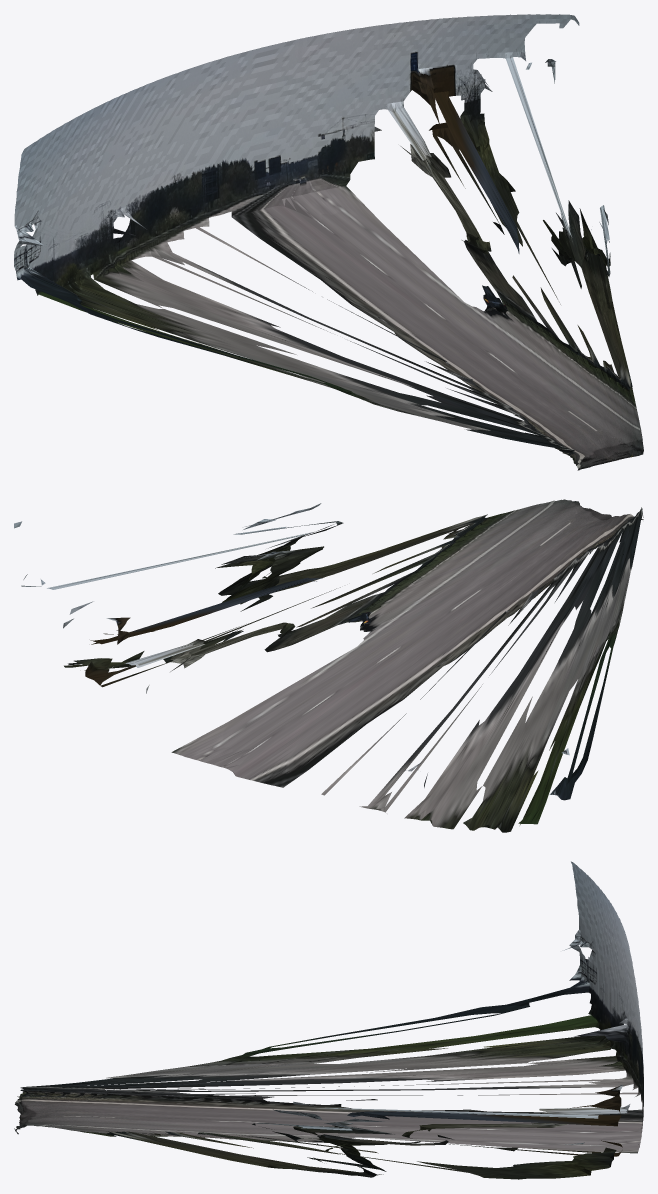
3 renders of one model, top to bottom at view 1: azimuth 30°, elevation 25°; view 2: azimuth 150°, elevation 25°; view 3: azimuth 270°, elevation 25°, orthographic. The views are drawn at different scales.
Visible parts, largest first — view 1: defaultobject; view 2: defaultobject; view 3: defaultobject.
Part boxes in pixels (box(x1,y1,x2,y2)): defaultobject: box(14, 14, 643, 470); defaultobject: box(14, 499, 643, 832); defaultobject: box(14, 861, 643, 1179).
Size of the model in its own units: 40.58 by 12.74 by 44.51.
Materials: 1 (1 with a texture image).
